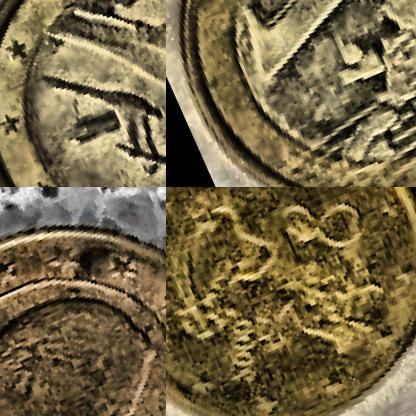coin: (166, 187, 415, 415), (166, 0, 415, 186), (0, 187, 165, 415), (0, 0, 165, 186)
